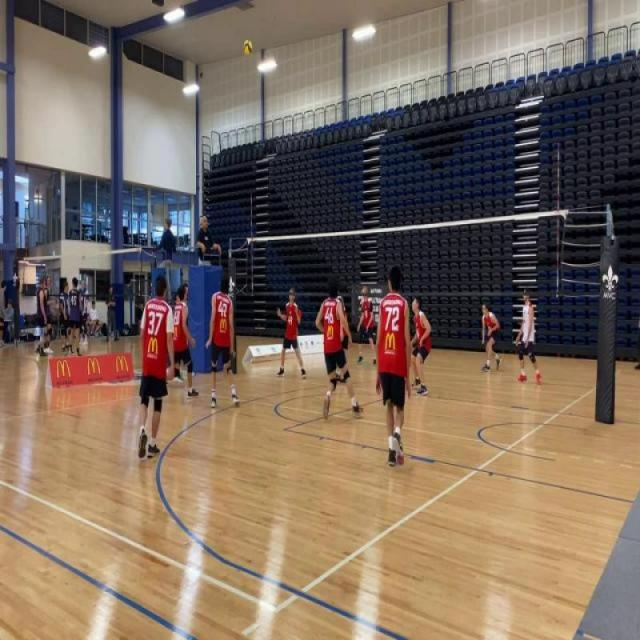volleyball: (242, 38, 254, 58)
